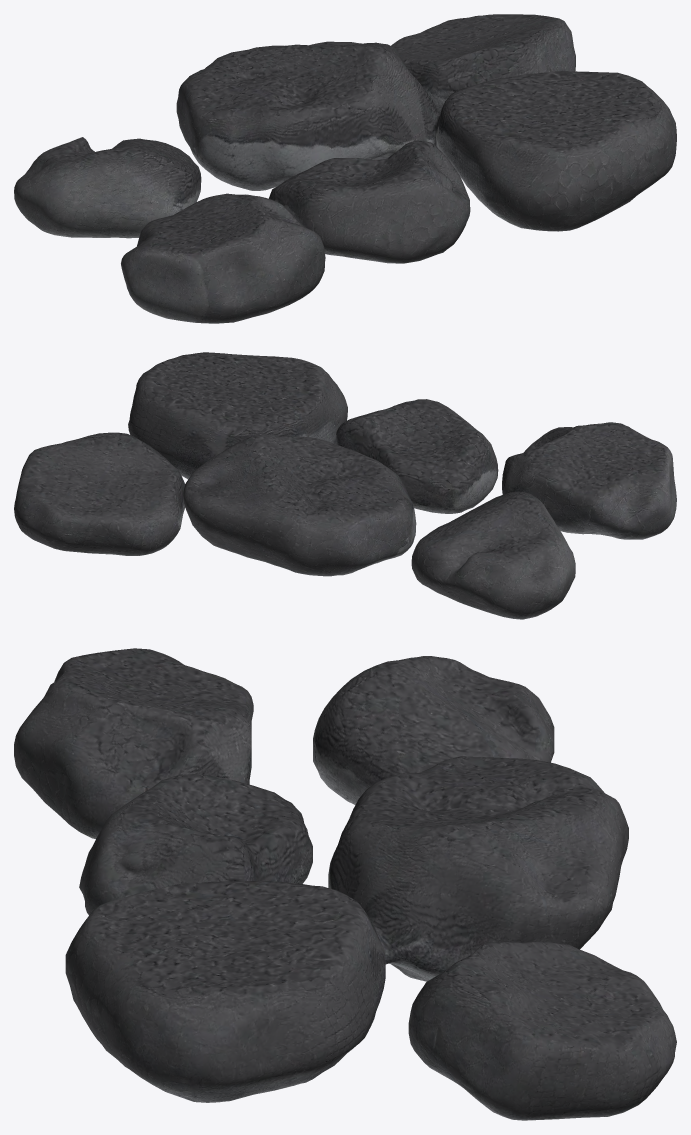
Rendered from small_rocks.glb.
3 renders of one model, top to bottom at view 1: azimuth 30°, elevation 25°; view 2: azimuth 150°, elevation 25°; view 3: azimuth 270°, elevation 25°, orthographic. The views are drawn at different scales.
Bounding box in the file's own units: 1.91 × 0.364 × 1.35.
Materials: 1 (1 with a texture image).
